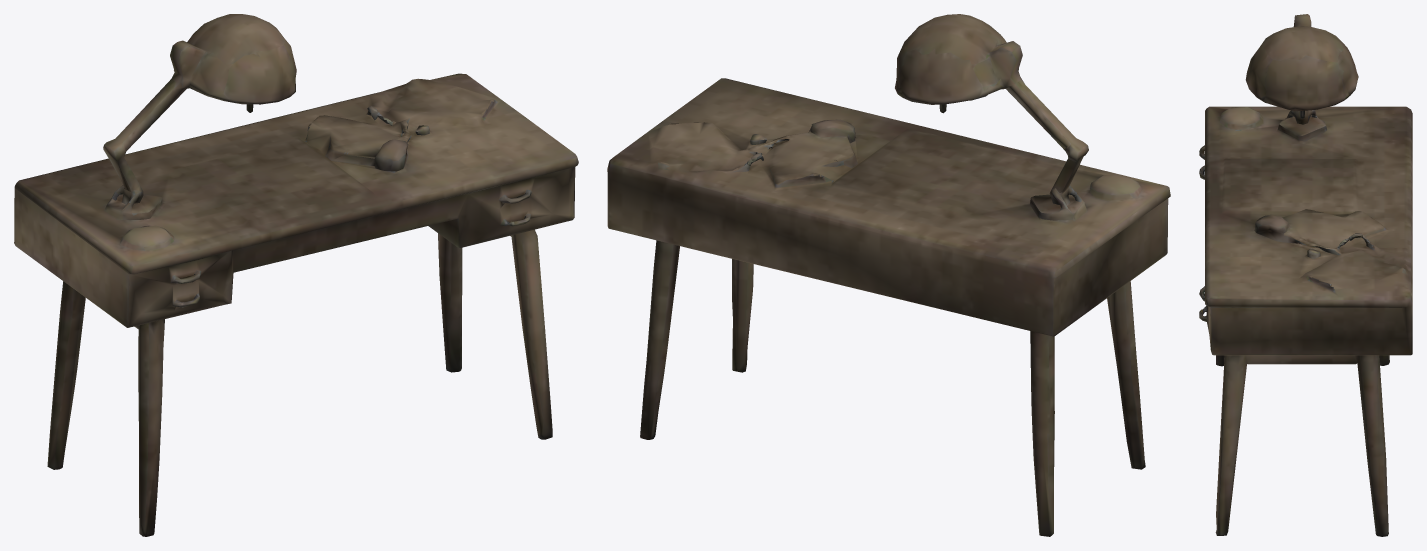
Rendered from sturdy-wood-desk-v003.glb.
3 renders of one model, left to right at view 1: azimuth 30°, elevation 25°; view 2: azimuth 150°, elevation 25°; view 3: azimuth 270°, elevation 25°, orthographic. The views are drawn at different scales.
Visible parts, largest first — view 1: sturdy-wood-desk; view 2: sturdy-wood-desk; view 3: sturdy-wood-desk.
Boxes of the visible parts, x1,y1,x2,y2 form: sturdy-wood-desk: (14,14,578,536); sturdy-wood-desk: (607,14,1170,536); sturdy-wood-desk: (1199,14,1412,536).
Size of the model in its own units: 0.7879 by 0.749 by 0.3683.
1 material, 1 textured.
